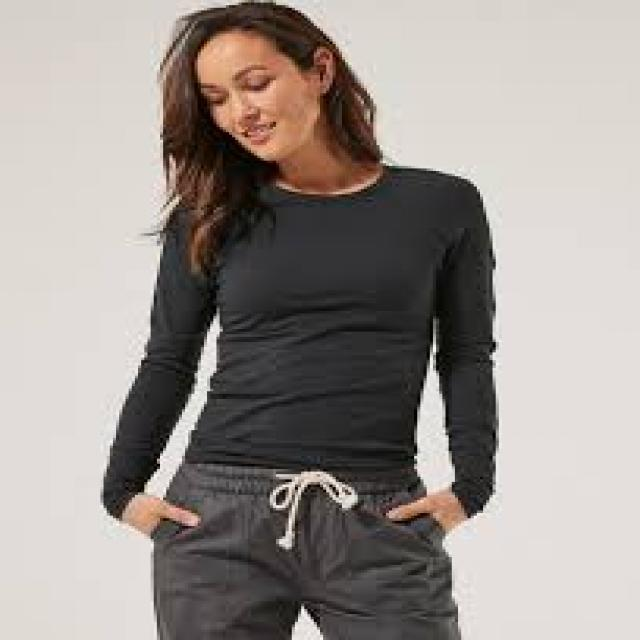plain: (86, 163, 504, 505)
